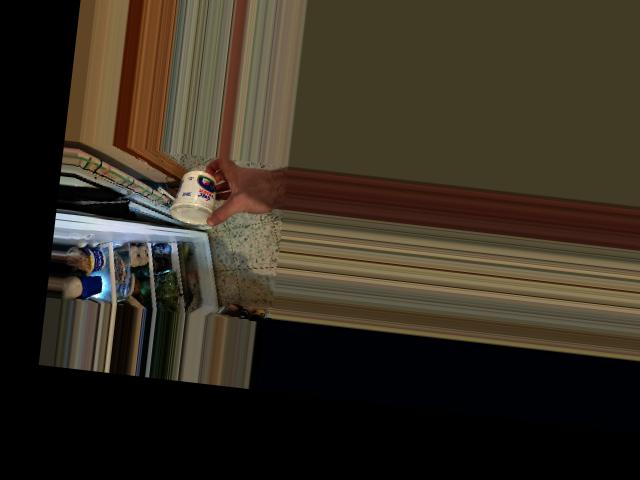cotage: (167, 167, 224, 227)
